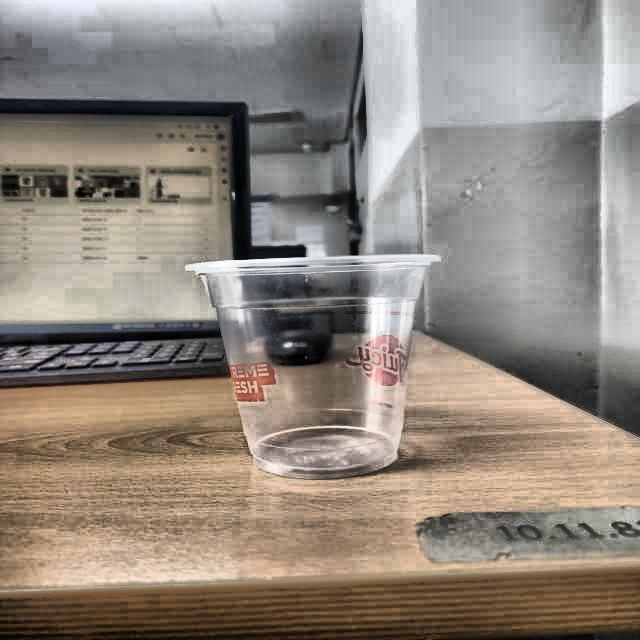plastic cup: (185, 255, 442, 478)
